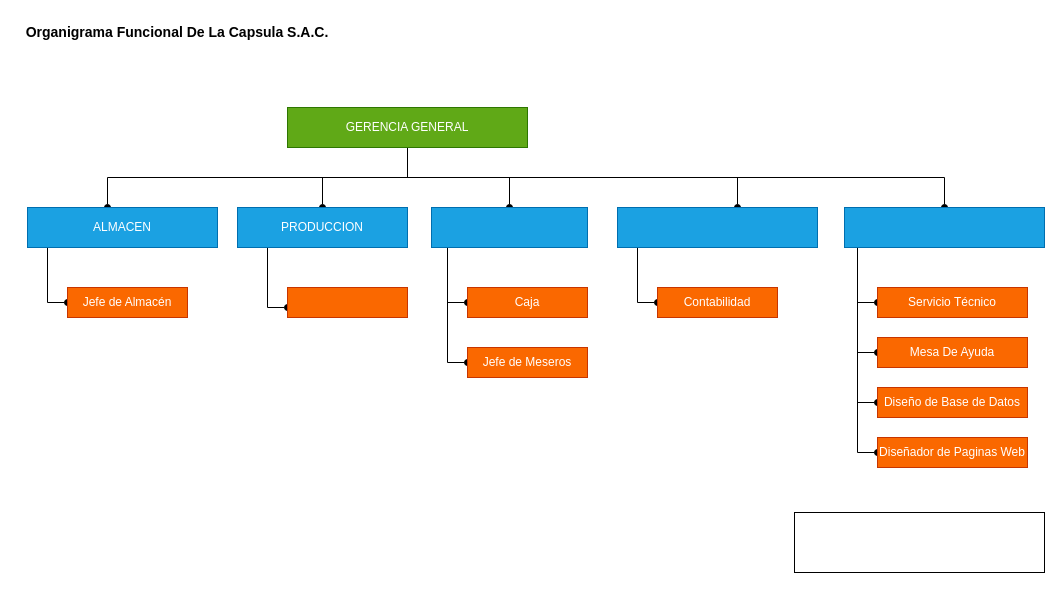
This 1062x590 diagram has some shape labels left out. Each missing label, with the centre of its shape:
"Aprobado con una Resolución N° 835 - GG 2022 del 24-08-2022" belongs at (919,542).
"FINANZAS Y ADMINISTRACION" belongs at (717,227).
"INFORMATICA Y SISTEMAS" belongs at (944,227).
"Jefe de Producción" belongs at (347,302).
"VENTAS Y MARKETING" belongs at (509,227).
